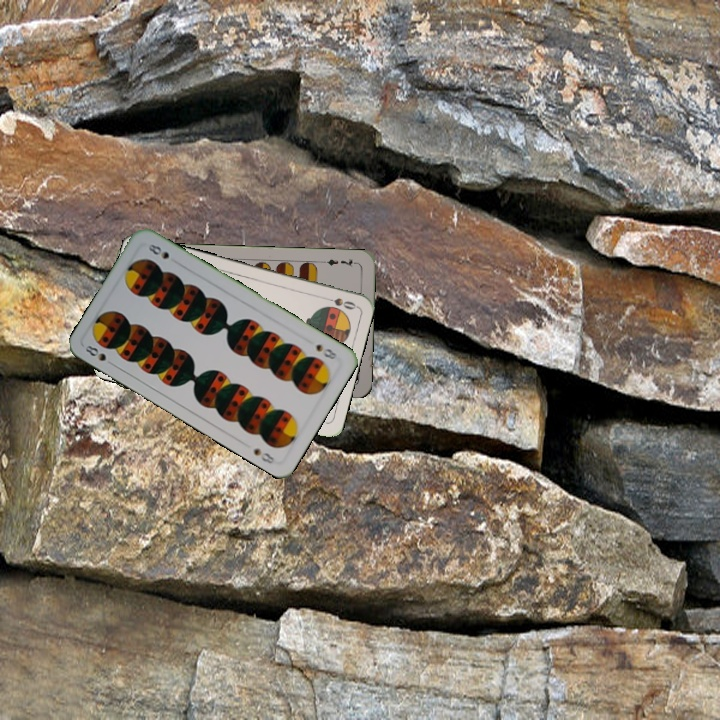E7: (319, 255, 359, 269)
S8: (81, 341, 119, 369), (312, 340, 342, 362)
SO: (318, 293, 358, 312)
